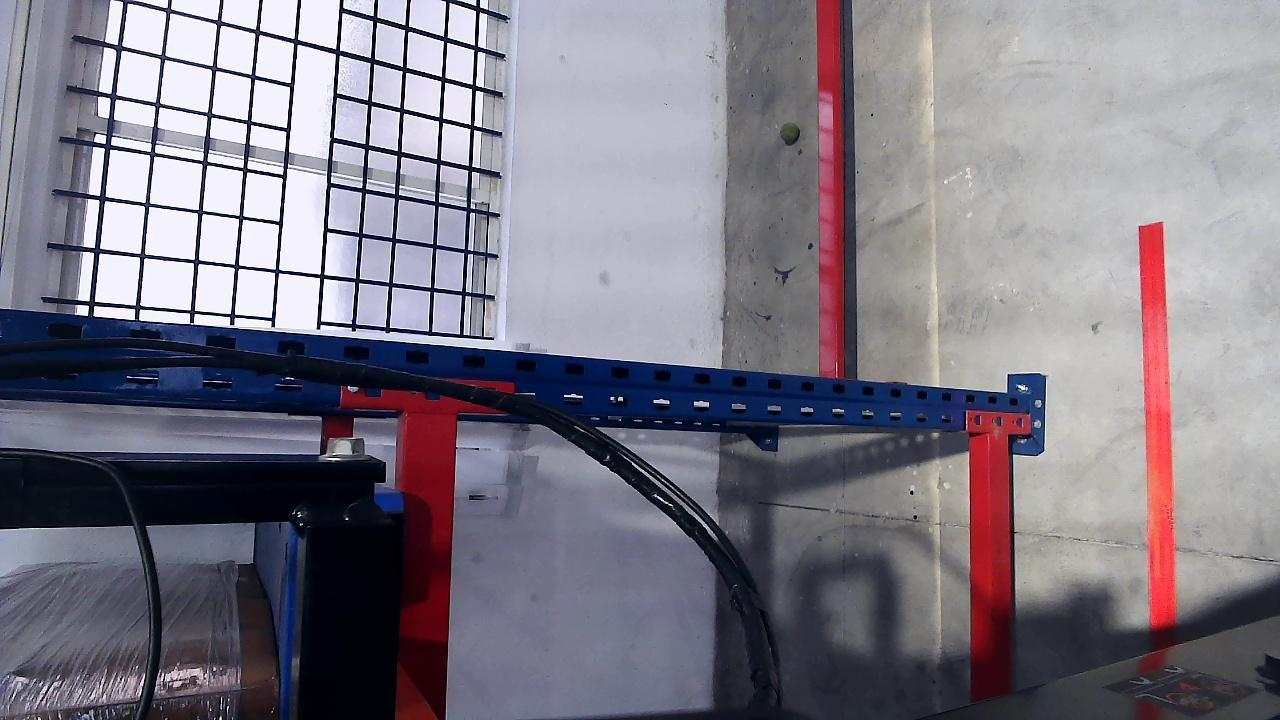red_line: (1138, 223, 1177, 631)
